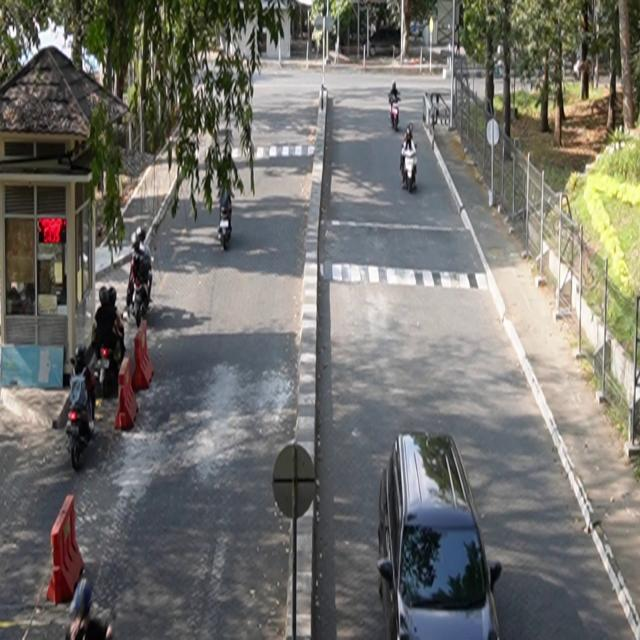car: (377, 432, 503, 640)
